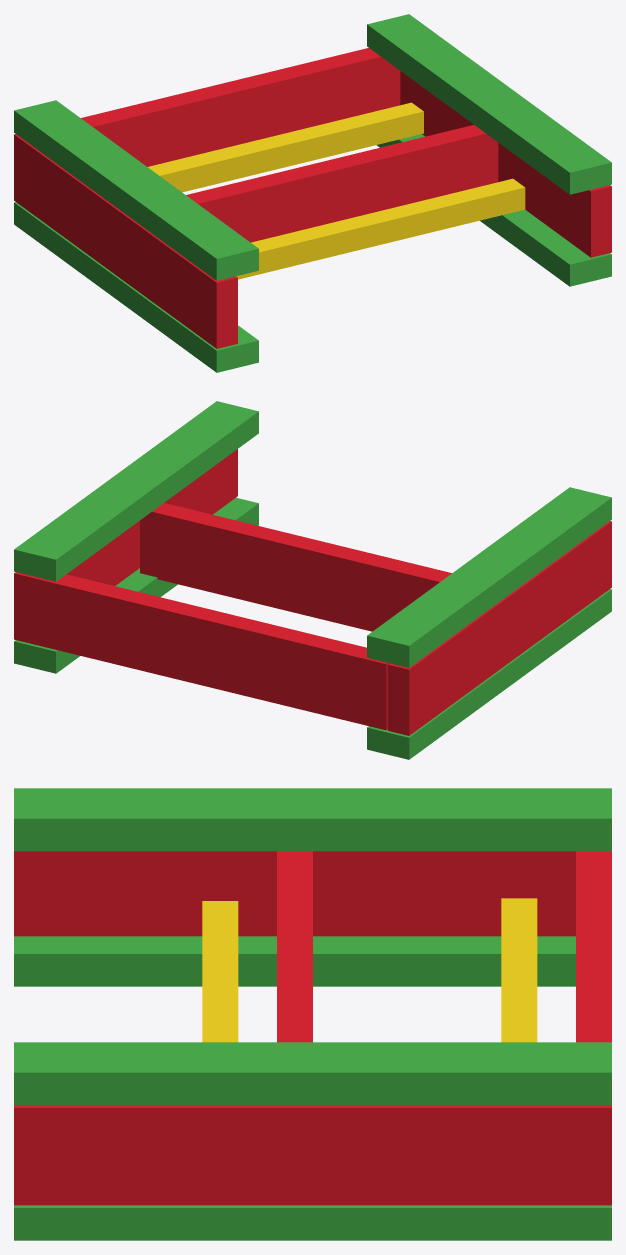
The model's file is tinker.obj.
3 views of the same model, one above another, from view 1: azimuth 30°, elevation 25°; view 2: azimuth 150°, elevation 25°; view 3: azimuth 270°, elevation 25° (orthographic). The views are drawn at different scales.
Parts seen in each view (by area): view 1: group_0_15277357, group_0_4634441, group_0_16768282; view 2: group_0_15277357, group_0_4634441; view 3: group_0_4634441, group_0_15277357, group_0_16768282.
Part boxes in pixels (x1=…): group_0_15277357: x1=14, y1=48, x2=611, y2=348; group_0_4634441: x1=14, y1=14, x2=611, y2=372; group_0_16768282: x1=148, y1=102, x2=525, y2=279; group_0_15277357: x1=14, y1=449, x2=611, y2=735; group_0_4634441: x1=14, y1=401, x2=611, y2=759; group_0_4634441: x1=14, y1=788, x2=611, y2=1240; group_0_15277357: x1=14, y1=851, x2=611, y2=1205; group_0_16768282: x1=202, y1=898, x2=537, y2=1042.
Size of the model in its own units: 225 by 62 by 200.
